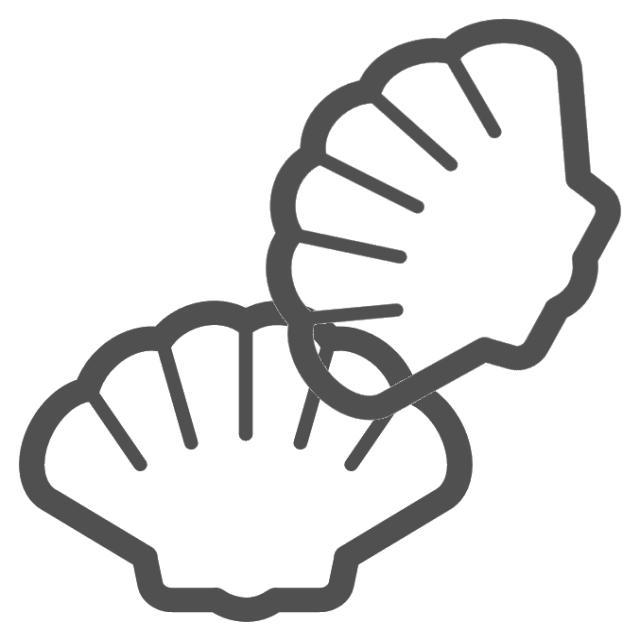shell: (14, 292, 483, 631), (256, 10, 630, 431)
